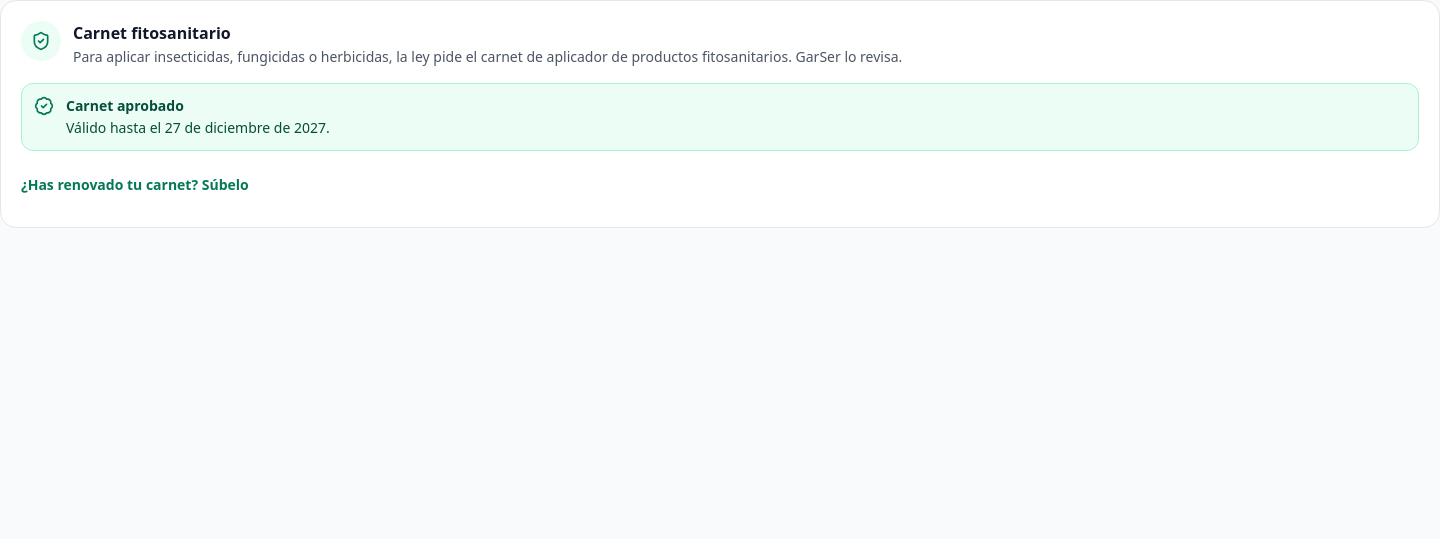
Test case: PhytosanitaryLicenseUpload › aprobado: dice hasta cuándo vale y deja subir el renovado solo si lo pide
Check: the text "Carnet aprobado" is shown, box [66,96,184,115]
Check: the button "Enviar a revisión" is not shown
What coordinates should you click on to do the following:
click the button "¿Has renovado tu carnet? Súbelo"
I would click on:
 (135, 185)
Its box is [21,163,249,207].
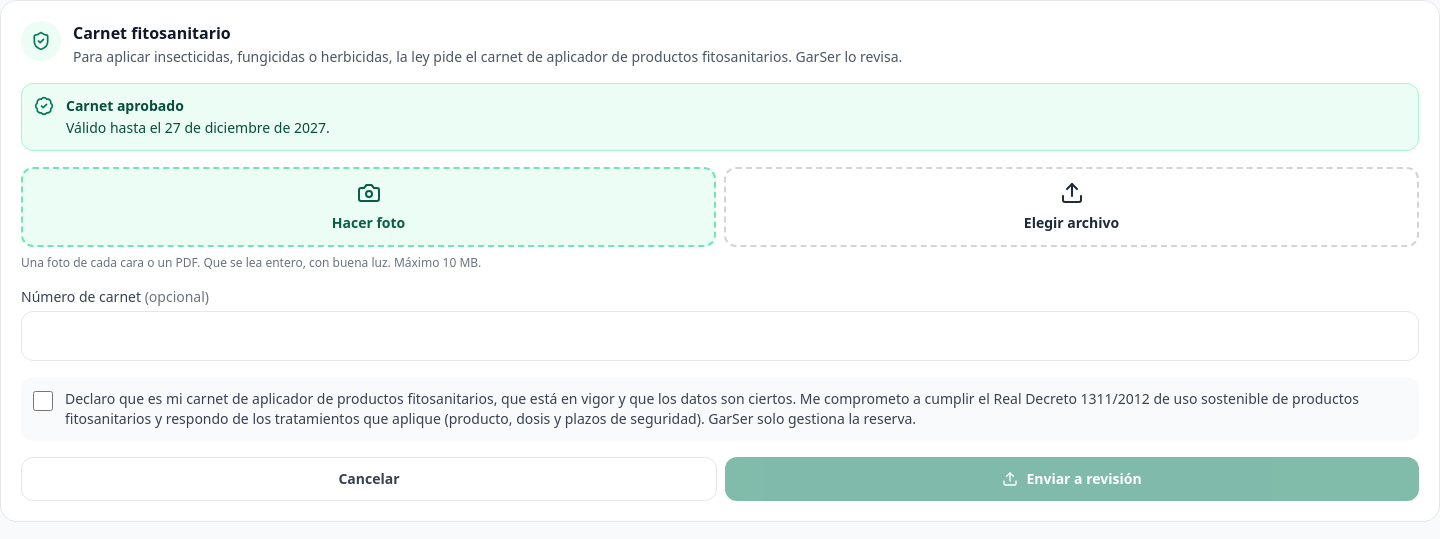
Check: the button "Enviar a revisión" is shown, box [725,457,1419,501]
